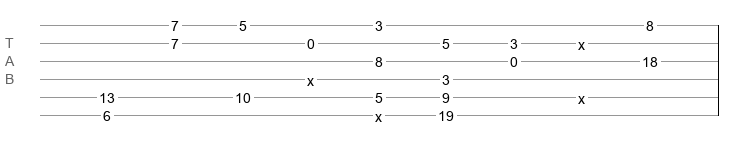0: (307, 36, 315, 46), (510, 54, 518, 64)
10: (235, 90, 251, 100)
13: (99, 90, 115, 100)
18: (642, 54, 658, 64)
19: (438, 108, 454, 118)
3: (375, 18, 383, 28), (442, 72, 450, 82), (510, 36, 518, 46)
5: (239, 18, 247, 28), (375, 90, 383, 100), (442, 36, 450, 46)
6: (103, 108, 111, 118)
7: (171, 36, 179, 46), (171, 18, 179, 28)
8: (375, 54, 383, 64), (646, 18, 654, 28)
9: (442, 90, 450, 100)
x: (307, 73, 314, 81), (375, 109, 382, 117), (578, 91, 585, 99), (578, 37, 585, 45)
